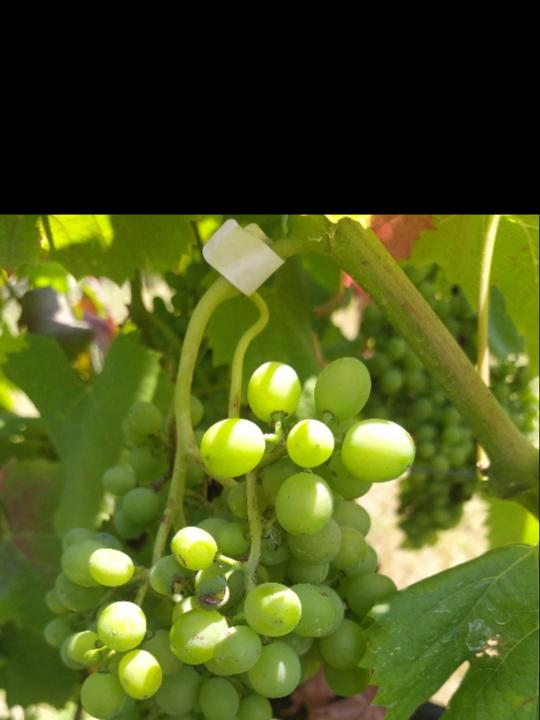grape: (41, 353, 420, 720)
